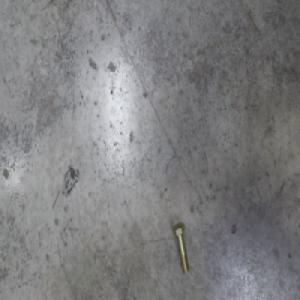Bolt: (171, 221, 189, 274)
